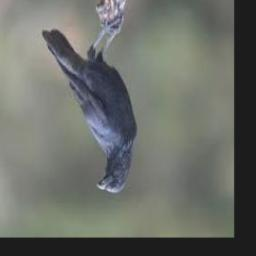Crow: (41, 25, 137, 194)
